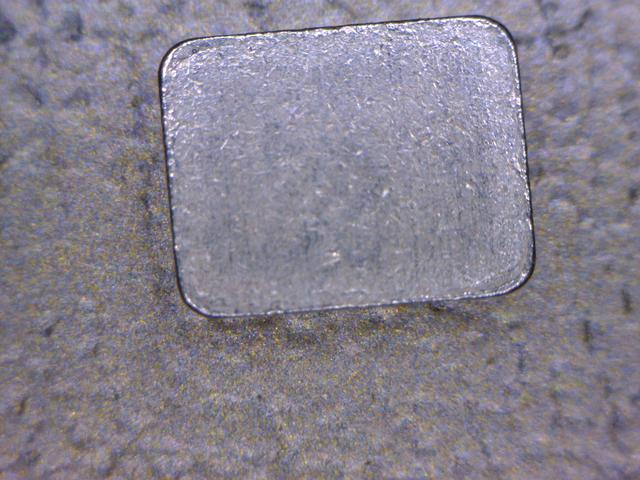ok: (154, 12, 549, 323)
